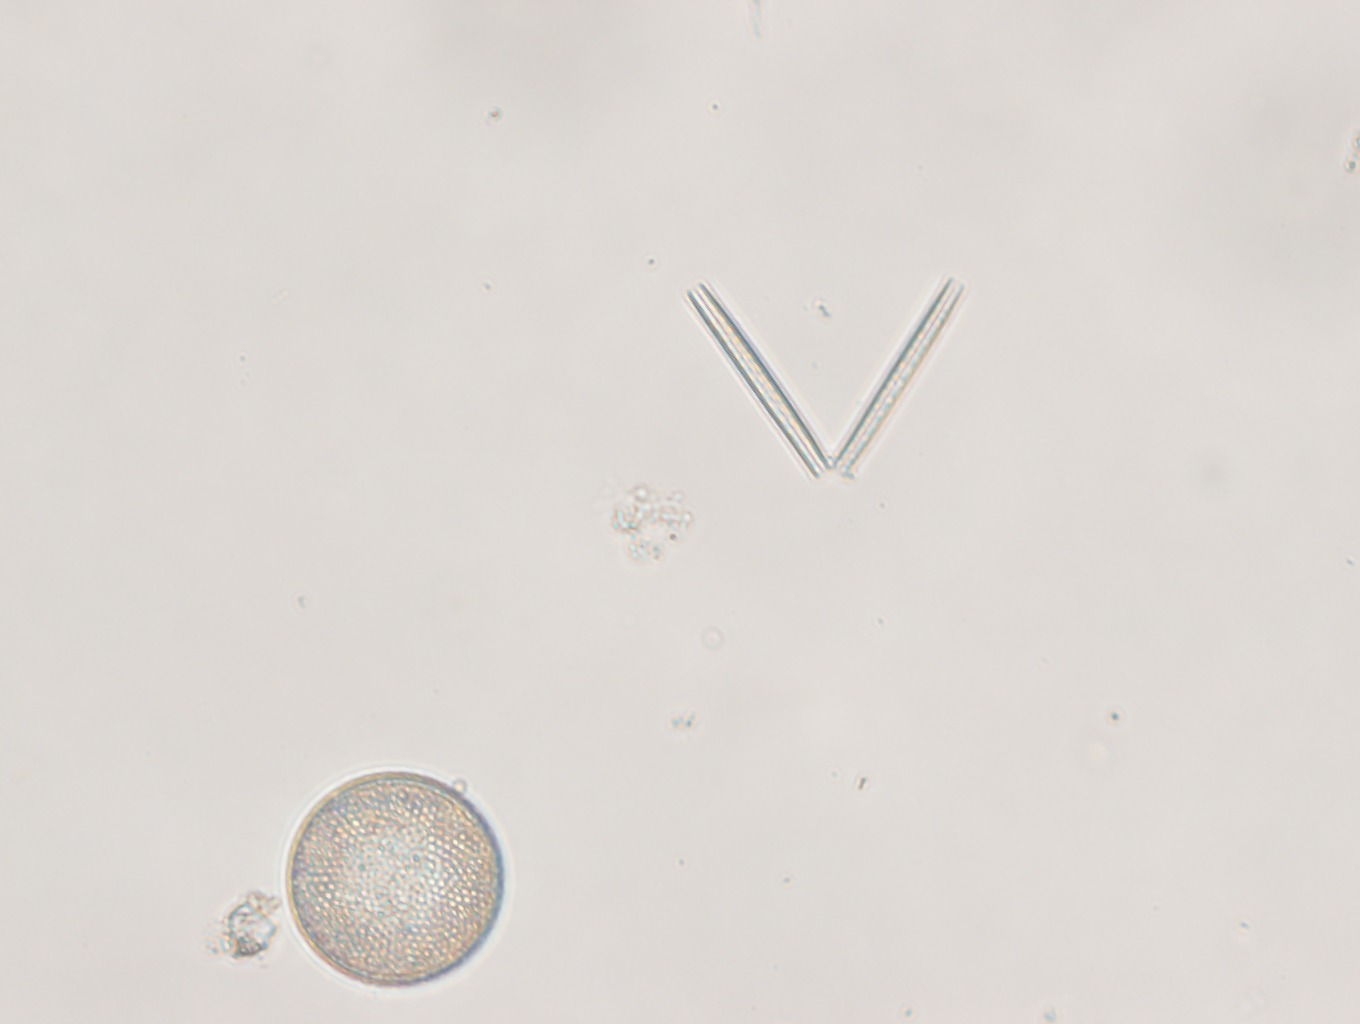coscinodiscus: (286, 766, 507, 993)
thalassionema nitzschioides: (687, 272, 964, 480)
